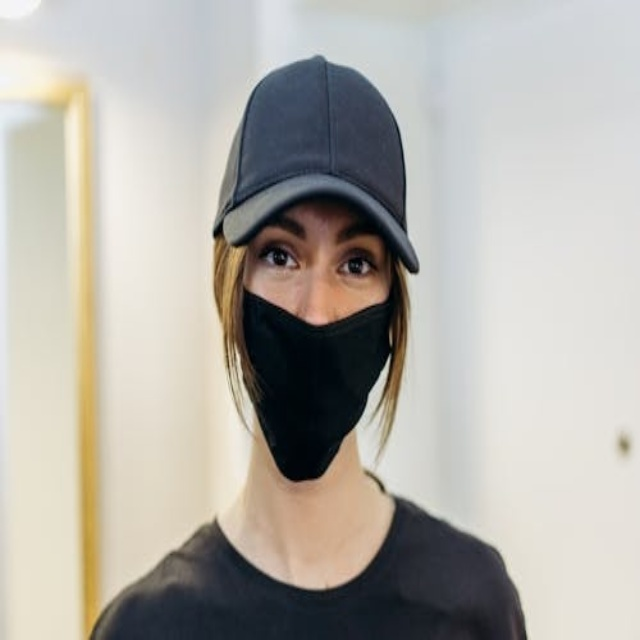Mascara: (238, 285, 397, 481)
Sin_gafas: (258, 243, 301, 271), (336, 253, 377, 278)
